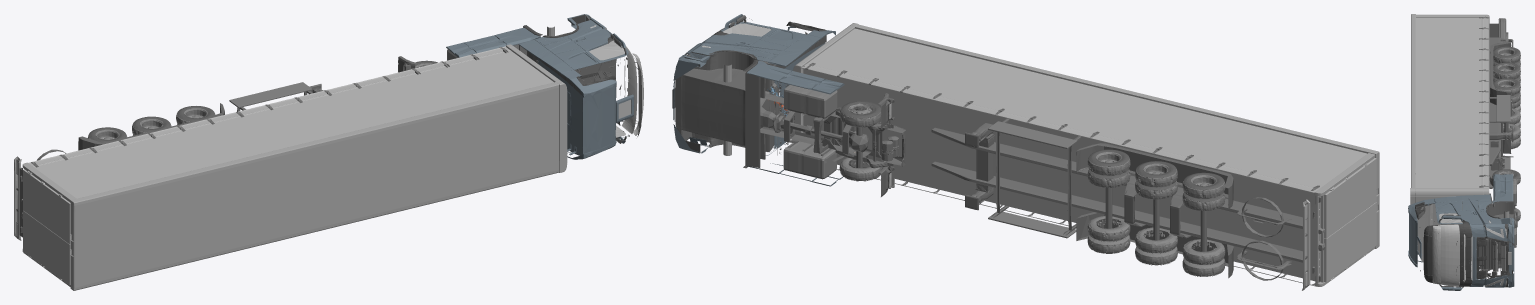
File: chassis.glb
The picture shows the model from 3 angles, left to right: view 1: azimuth 30°, elevation 25°; view 2: azimuth 150°, elevation 25°; view 3: azimuth 270°, elevation 25°; orthographic projection. The views are drawn at different scales.
Parts seen in each view (by area): view 1: chassis_57, chassis_55, chassis_11, chassis_53, chassis_40, chassis_10, chassis_50, chassis_58, chassis_21, chassis_22, chassis_0, chassis_7 (+1 smaller); view 2: chassis_55, chassis_57, chassis_52, chassis_36, chassis_53, chassis_39, chassis_50, chassis_11, chassis_34, chassis_40, chassis_58, chassis_65 (+12 smaller); view 3: chassis_55, chassis_11, chassis_52, chassis_22, chassis_57, chassis_40, chassis_7, chassis_10, chassis_37, chassis_50, chassis_36, chassis_12 (+23 smaller).
Boxes of the visible parts, bbox=[...] form: chassis_57: bbox=[22, 82, 558, 290]; chassis_55: bbox=[28, 46, 553, 198]; chassis_11: bbox=[518, 18, 633, 159]; chassis_53: bbox=[14, 156, 71, 284]; chassis_40: bbox=[446, 14, 590, 57]; chassis_10: bbox=[506, 44, 567, 172]; chassis_50: bbox=[16, 76, 390, 237]; chassis_58: bbox=[229, 82, 312, 107]; chassis_21: bbox=[589, 25, 631, 137]; chassis_22: bbox=[621, 46, 637, 133]; chassis_0: bbox=[534, 42, 624, 121]; chassis_7: bbox=[576, 16, 626, 141]; chassis_55: bbox=[800, 28, 1366, 285]; chassis_57: bbox=[803, 24, 1379, 286]; chassis_52: bbox=[931, 118, 1316, 279]; chassis_36: bbox=[675, 51, 760, 167]; chassis_53: bbox=[1302, 158, 1376, 290]; chassis_39: bbox=[760, 77, 905, 188]; chassis_50: bbox=[933, 93, 1321, 287]; chassis_11: bbox=[685, 14, 835, 155]; chassis_34: bbox=[777, 63, 910, 185]; chassis_40: bbox=[673, 52, 844, 186]; chassis_58: bbox=[988, 121, 1077, 238]; chassis_65: bbox=[1087, 215, 1130, 253]; chassis_55: bbox=[1415, 17, 1489, 188]; chassis_11: bbox=[1408, 194, 1507, 290]; chassis_52: bbox=[1489, 23, 1513, 188]; chassis_22: bbox=[1438, 224, 1459, 286]; chassis_57: bbox=[1411, 14, 1489, 187]; chassis_40: bbox=[1492, 174, 1514, 287]; chassis_7: bbox=[1415, 202, 1507, 287]; chassis_10: bbox=[1410, 188, 1489, 254]; chassis_37: bbox=[1476, 201, 1514, 279]; chassis_50: bbox=[1479, 16, 1511, 153]; chassis_36: bbox=[1487, 202, 1514, 279]; chassis_12: bbox=[1417, 204, 1472, 261].
Bounding box in the file's own units: 18.61 × 3.06 × 4.19.
